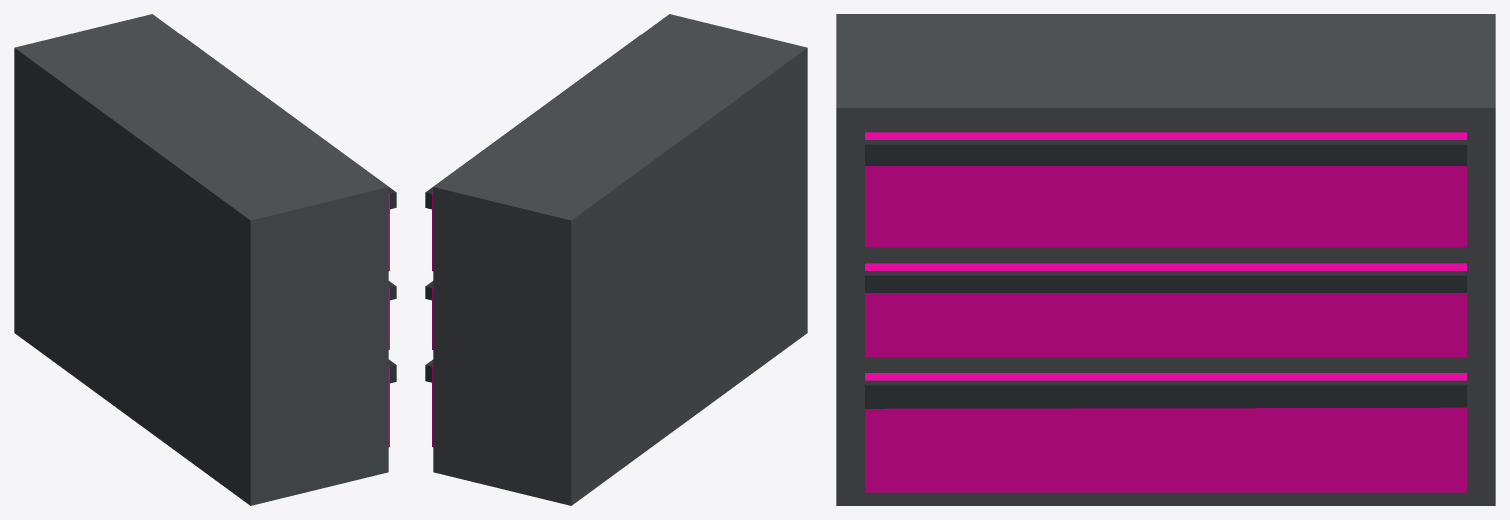
Rendered from drawers.fbx.
The picture shows the model from 3 angles, left to right: view 1: azimuth 30°, elevation 25°; view 2: azimuth 150°, elevation 25°; view 3: azimuth 270°, elevation 25°; orthographic projection. The views are drawn at different scales.
Parts seen in each view (by area): view 1: pCube8; view 2: pCube8; view 3: pCube8.
Boxes of the visible parts, x1=… form: pCube8: x1=14, y1=14, x2=396, y2=505; pCube8: x1=425, y1=14, x2=807, y2=505; pCube8: x1=836, y1=14, x2=1495, y2=505.
Bounding box in the file's own units: 1.13 × 1.98 × 2.96.
